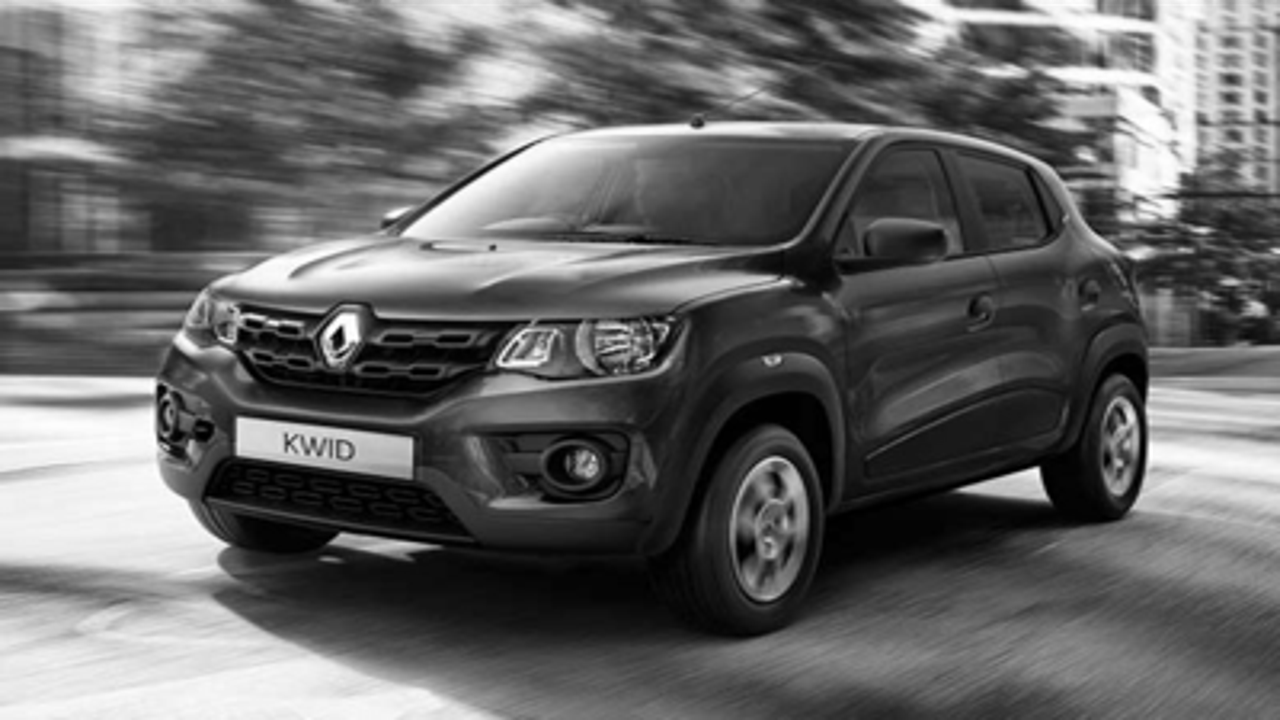license: (224, 407, 427, 489)
